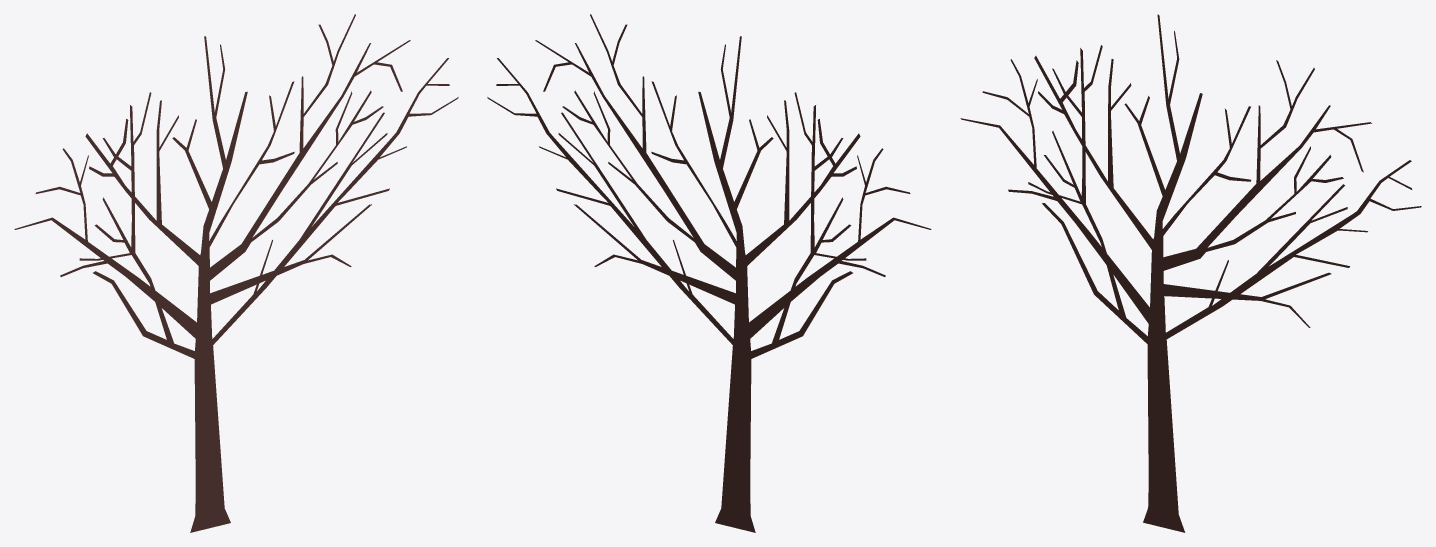
File: CherryTree_02.fbx
3 renders of one model, left to right at view 1: azimuth 30°, elevation 25°; view 2: azimuth 150°, elevation 25°; view 3: azimuth 330°, elevation 25°, orthographic. The views are drawn at different scales.
Parts seen in each view (by area): view 1: nurbsToPoly1; view 2: nurbsToPoly1; view 3: nurbsToPoly1.
Boxes of the visible parts, left/top/right/bottom form: nurbsToPoly1: left=14, top=14, right=458, bottom=532; nurbsToPoly1: left=487, top=14, right=931, bottom=532; nurbsToPoly1: left=960, top=14, right=1421, bottom=532.
Bounding box in the file's own units: 13.32 × 14.12 × 1.63e-15.
Materials: 1 (1 with a texture image).
